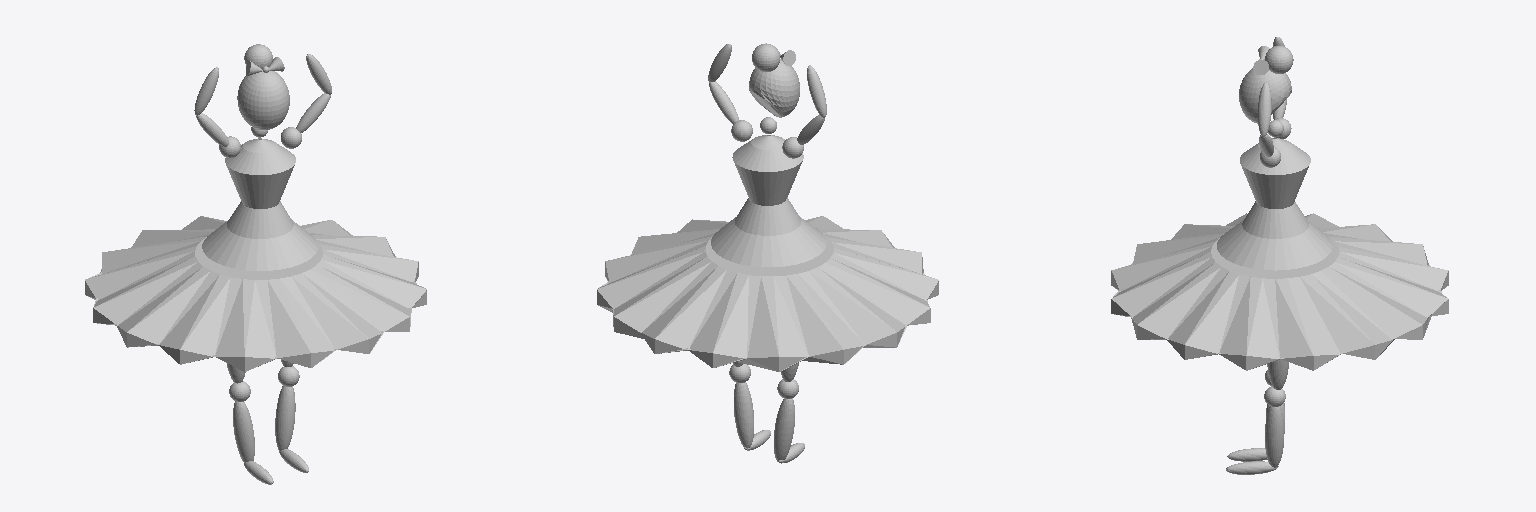
File: ballerina.obj
3 renders of one model, left to right at view 1: azimuth 30°, elevation 25°; view 2: azimuth 150°, elevation 25°; view 3: azimuth 270°, elevation 25°, orthographic.
Parts seen in each view (by area): view 1: skirt_Cylinder.001, body_Cylinder.002, head_Sphere, right_shin_Sphere.014, left_shin_Sphere.010, left_lower_arm_Sphere.006, right_upper_arm_Sphere.001, neck.001_bow; view 2: skirt_Cylinder.001, body_Cylinder.002, head_Sphere, right_shin_Sphere.014, left_shin_Sphere.010, neck.001_bow, left_lower_arm_Sphere.006, right_upper_arm_Sphere.001; view 3: skirt_Cylinder.001, body_Cylinder.002, head_Sphere, right_shin_Sphere.014, neck.001_bow, right_lower_arm_Sphere.007.
Part boxes in pixels (x1,y1,x2,y2): skirt_Cylinder.001: (85, 216, 426, 371); body_Cylinder.002: (202, 138, 317, 270); head_Sphere: (237, 71, 289, 129); right_shin_Sphere.014: (275, 386, 295, 451); left_shin_Sphere.010: (233, 401, 254, 462); left_lower_arm_Sphere.006: (194, 67, 218, 115); right_upper_arm_Sphere.001: (296, 93, 330, 132); neck.001_bow: (244, 44, 272, 72); skirt_Cylinder.001: (597, 216, 938, 371); body_Cylinder.002: (711, 135, 826, 266); head_Sphere: (749, 59, 799, 117); right_shin_Sphere.014: (734, 382, 753, 447); left_shin_Sphere.010: (774, 398, 794, 461); neck.001_bow: (752, 44, 780, 71); left_lower_arm_Sphere.006: (807, 65, 826, 117); right_upper_arm_Sphere.001: (709, 81, 738, 123); skirt_Cylinder.001: (1111, 213, 1448, 370); body_Cylinder.002: (1217, 138, 1332, 270); head_Sphere: (1239, 68, 1291, 123); right_shin_Sphere.014: (1265, 406, 1283, 467); neck.001_bow: (1259, 46, 1293, 73); right_lower_arm_Sphere.007: (1258, 82, 1271, 136).
Size of the model in its own units: 1.96 by 2.7 by 1.96.